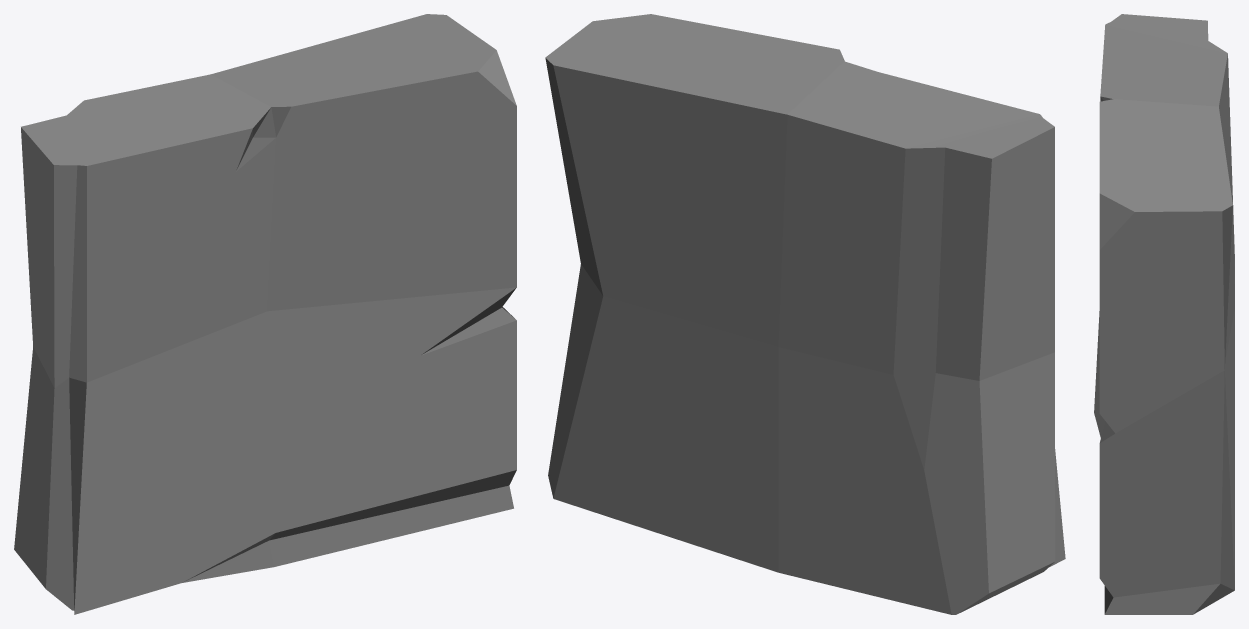
File: Fixed Wall 1.fbx
3 renders of one model, left to right at view 1: azimuth 30°, elevation 25°; view 2: azimuth 150°, elevation 25°; view 3: azimuth 270°, elevation 25°, orthographic. The views are drawn at different scales.
Parts seen in each view (by area): view 1: Cube.118; view 2: Cube.118; view 3: Cube.118.
Part boxes in pixels (left/top/right/bottom): Cube.118: left=14, top=14, right=516, bottom=614; Cube.118: left=545, top=14, right=1065, bottom=614; Cube.118: left=1094, top=14, right=1234, bottom=614.
Size of the model in its own units: 137 by 132 by 40.61.
